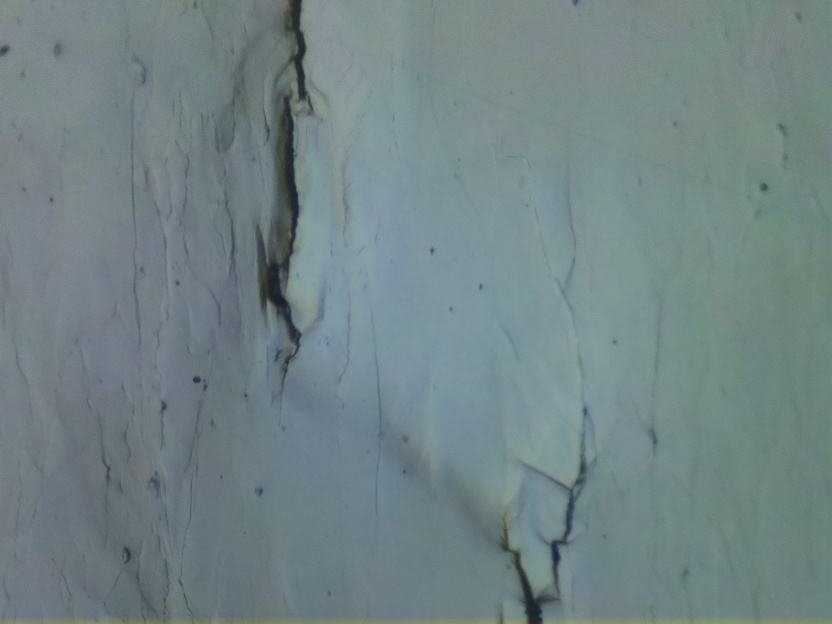crack: (500, 420, 590, 624), (261, 91, 302, 397), (285, 0, 312, 108)
